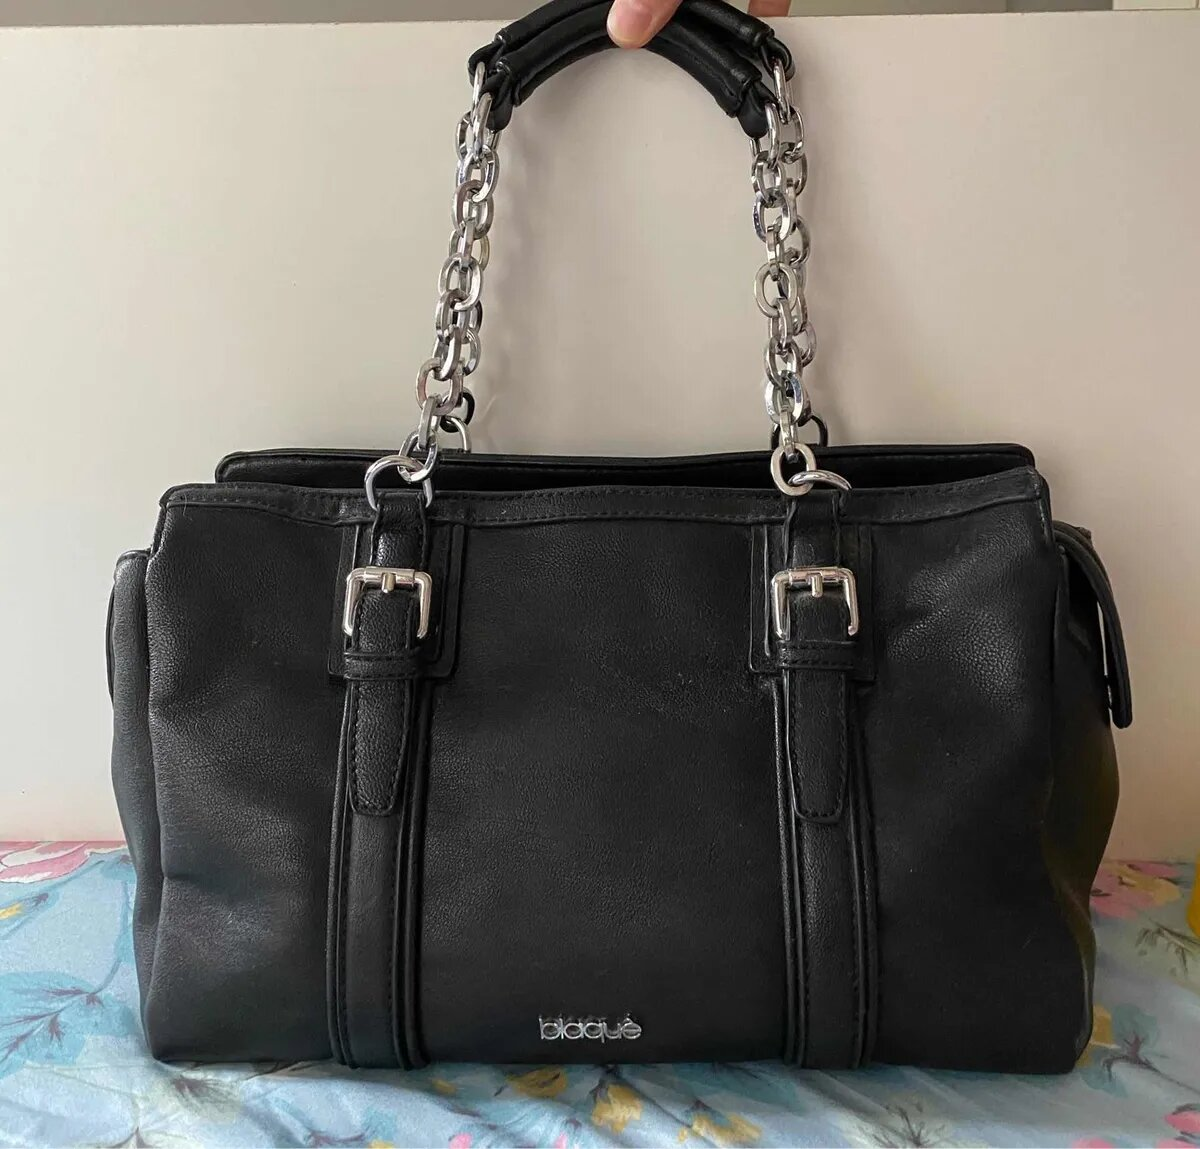cartera: (100, 8, 1157, 1111)
cuero: (88, 414, 1158, 1092)
